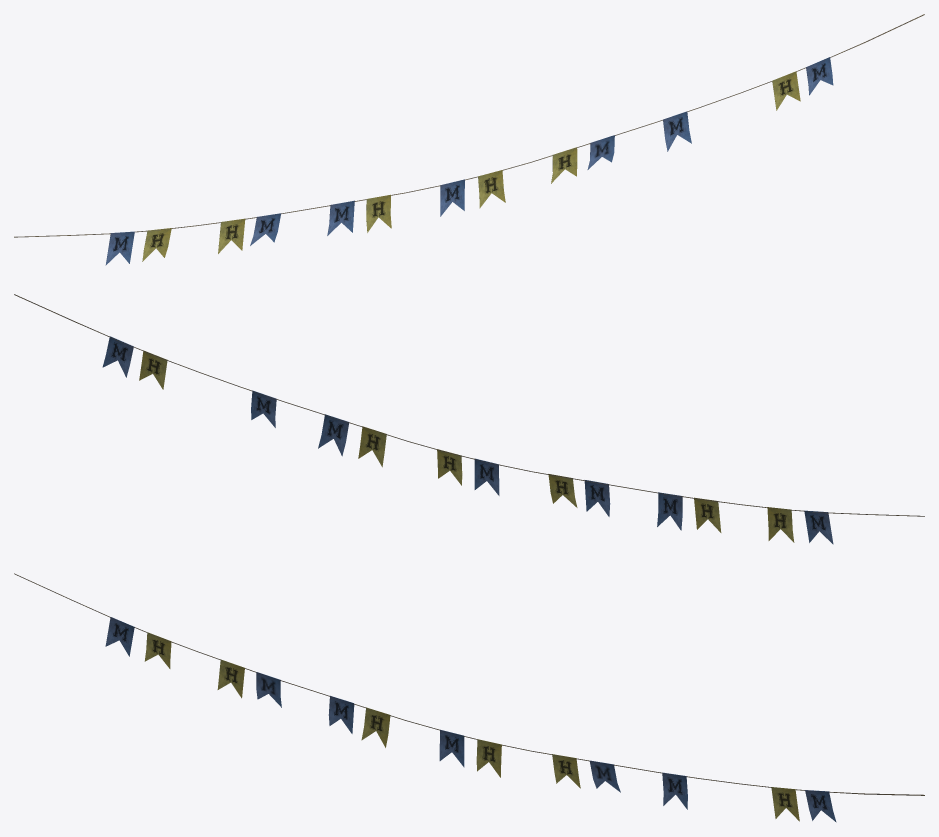
Rendered from Hanging flags_2.FBX.
3 views of the same model, one above another, from view 1: azimuth 30°, elevation 25°; view 2: azimuth 150°, elevation 25°; view 3: azimuth 330°, elevation 25° (orthographic).
Visible parts, largest first — view 1: Hanging flags_2; view 2: Hanging flags_2; view 3: Hanging flags_2.
Boxes of the visible parts, x1,y1,x2,y2 form: Hanging flags_2: [14, 14, 924, 265]; Hanging flags_2: [14, 294, 924, 544]; Hanging flags_2: [14, 573, 924, 822].
Bounding box in the file's own units: 5.41 × 0.4785 × 0.0796.
